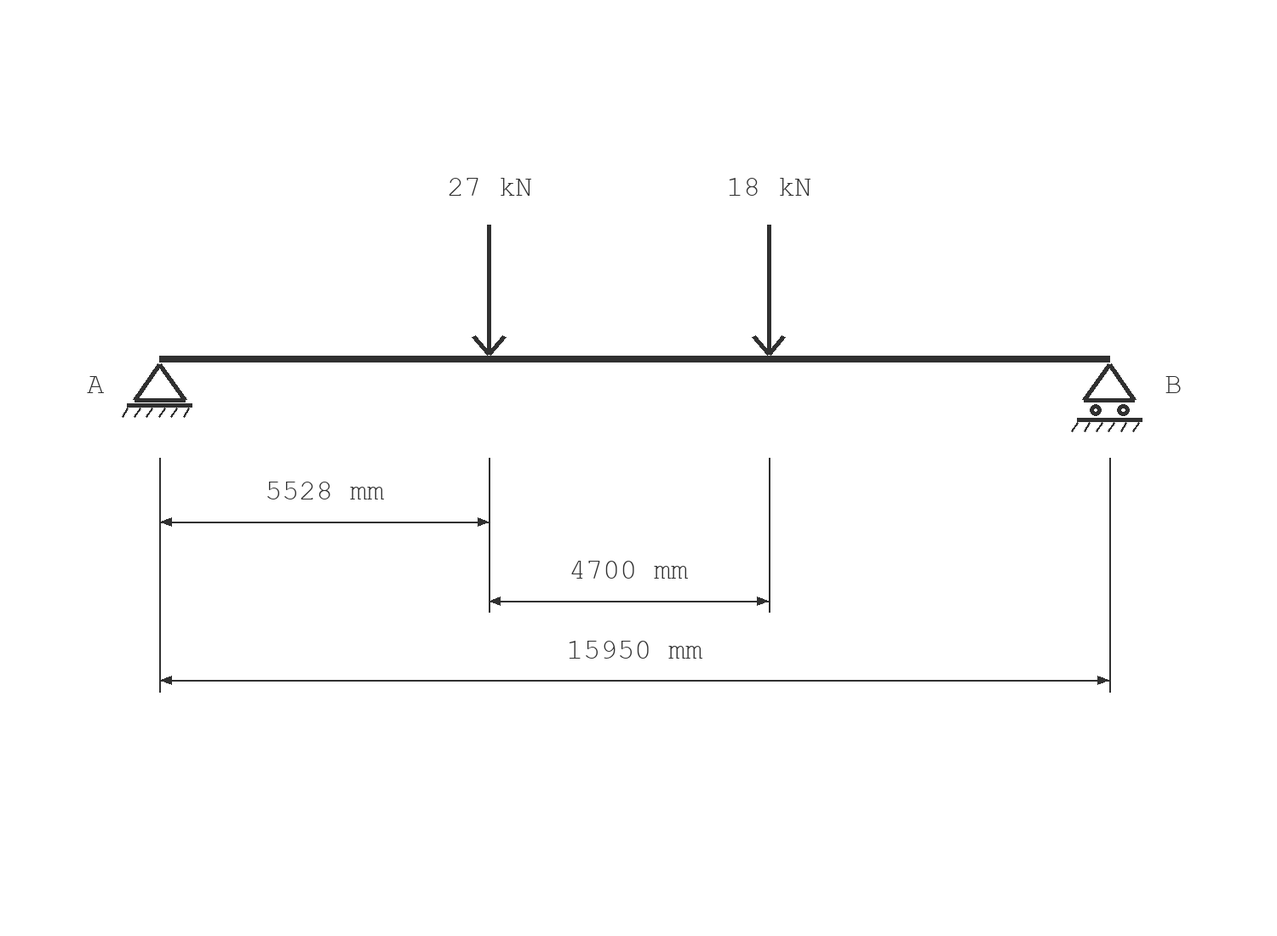pin_support: (122, 363, 192, 418)
point_load: (472, 225, 507, 356), (752, 225, 786, 356)
roller_support: (1071, 363, 1142, 432)
